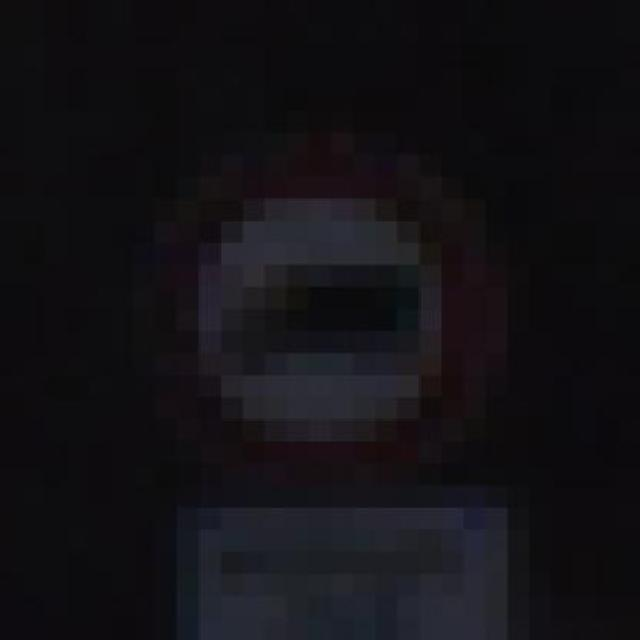Truck traffic is prohibited: (88, 110, 530, 508)
